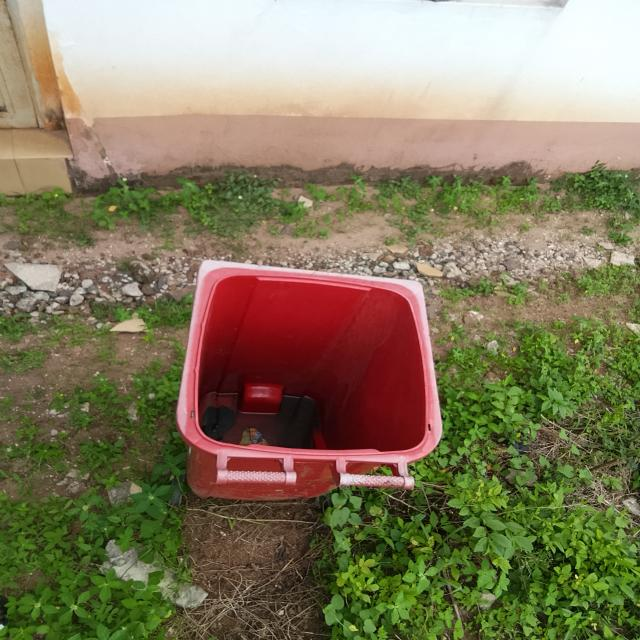empty: (188, 254, 442, 459)
